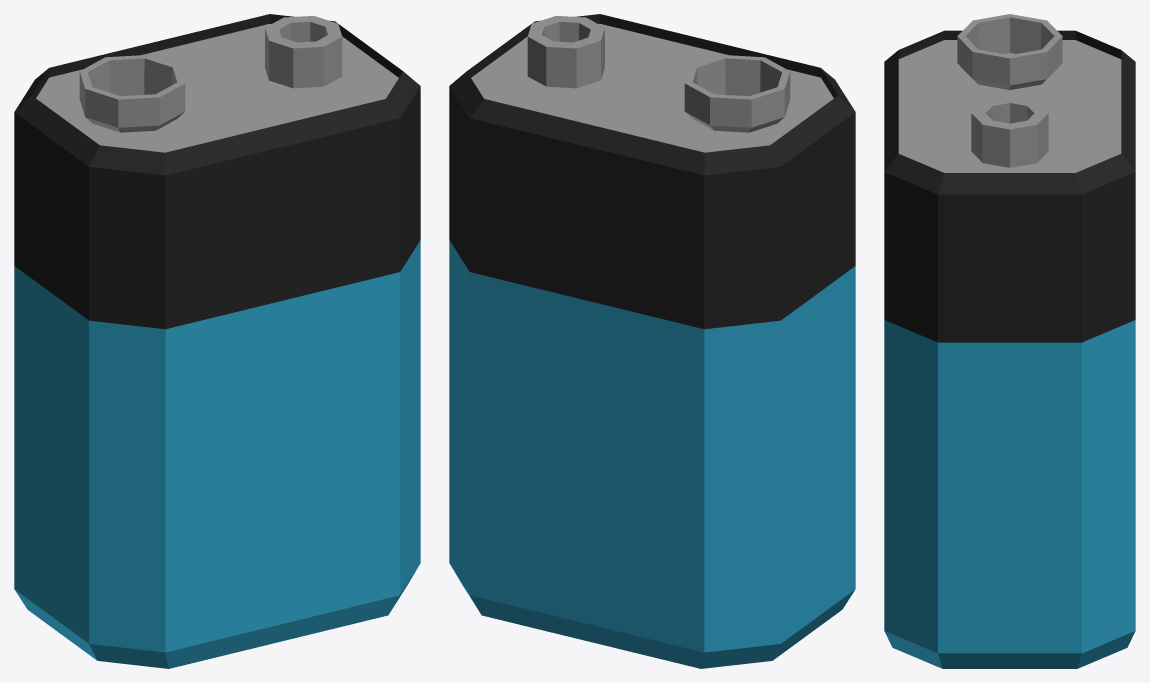
Rendered from Battery_1_mat.fbx.
3 views of the same model, side by side, from view 1: azimuth 30°, elevation 25°; view 2: azimuth 150°, elevation 25°; view 3: azimuth 270°, elevation 25° (orthographic). The views are drawn at different scales.
Visible parts, largest first — view 1: Battery_1_mat; view 2: Battery_1_mat; view 3: Battery_1_mat.
Boxes of the visible parts, box(x1,y1,x2,y2) form: Battery_1_mat: box(14, 14, 420, 668); Battery_1_mat: box(449, 14, 855, 668); Battery_1_mat: box(884, 14, 1135, 668).
Size of the model in its own units: 3.04 by 4.78 by 2.08.
